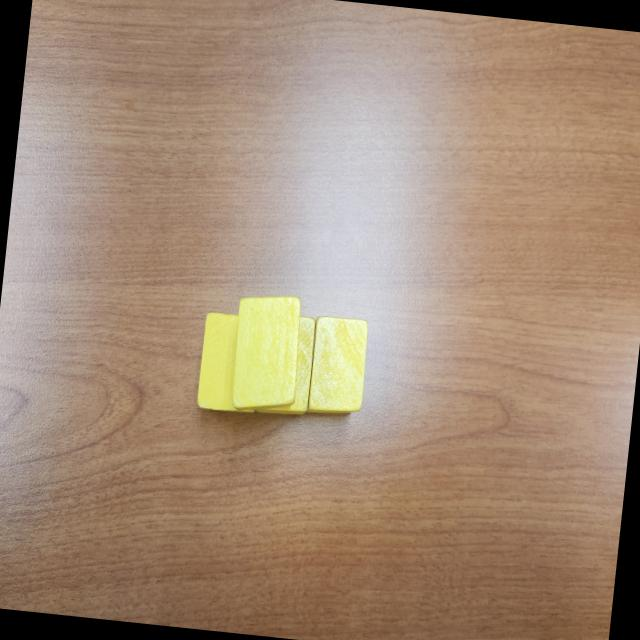yellow: (228, 292, 304, 416), (194, 310, 265, 416), (254, 312, 318, 422), (304, 313, 370, 419)
